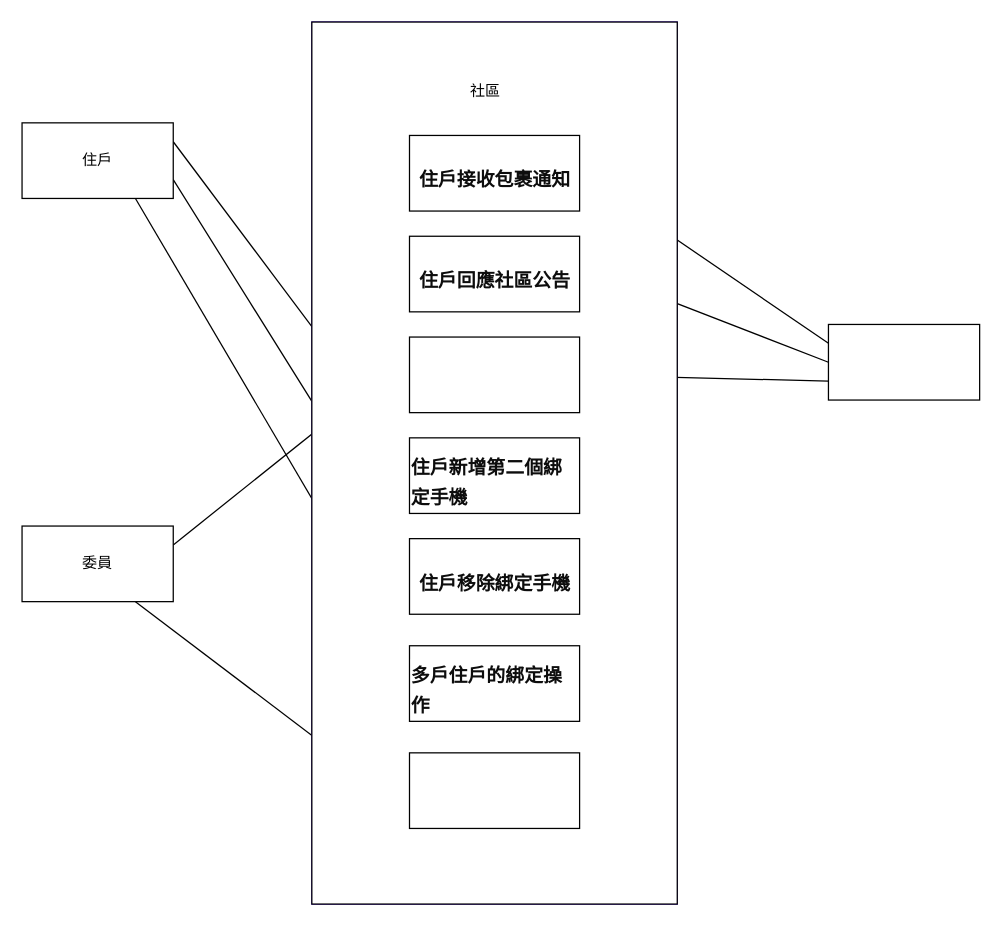
The diagram is 1002 pixels wide and 926 high, and some of its shapes have lost their labels. Here are the shapes that lost their labels. From the top down, the centre of each, then its label:
(494,374): 主任委員發布公告
(903,361): APP
(494,790): 委員修改公告
